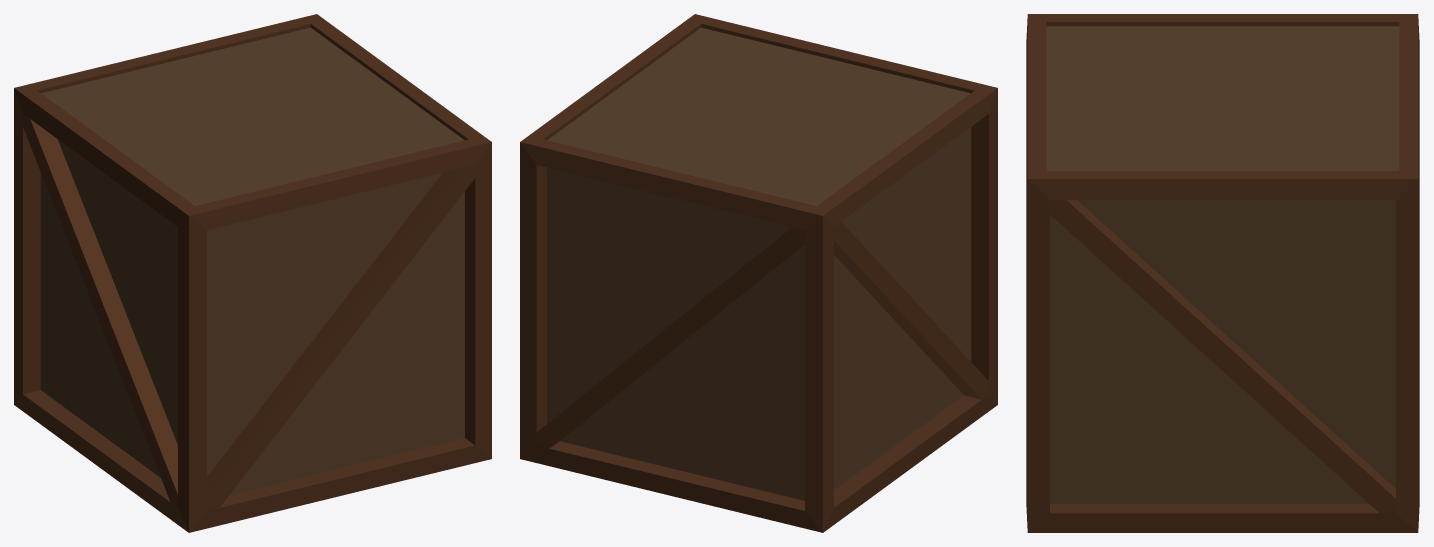
Rendered from Crate.glb.
The picture shows the model from 3 angles, left to right: view 1: azimuth 30°, elevation 25°; view 2: azimuth 150°, elevation 25°; view 3: azimuth 270°, elevation 25°; orthographic projection. The views are drawn at different scales.
Visible parts, largest first — view 1: Cube.003; view 2: Cube.003; view 3: Cube.003.
Part boxes in pixels (x1,y1,x2,y2): Cube.003: (14,14,491,532); Cube.003: (520,14,997,532); Cube.003: (1026,14,1419,532).
Size of the model in its own units: 2.01 by 2 by 2.01.
